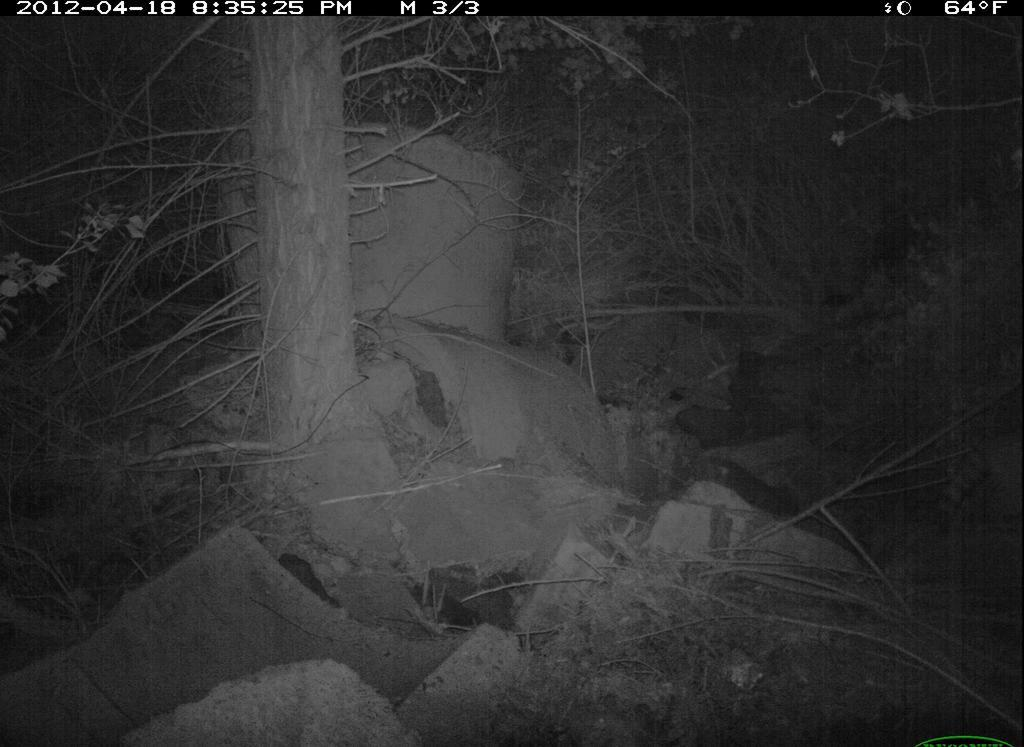raccoon: (927, 425, 1023, 545)
